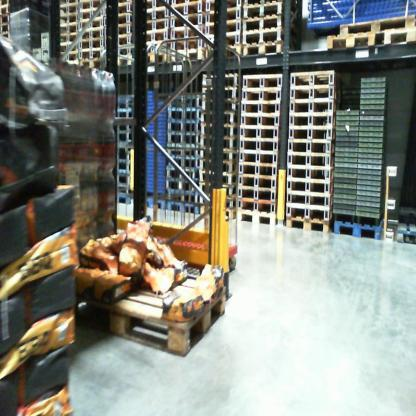pallets: (79, 280, 227, 358), (324, 13, 415, 54), (112, 188, 209, 214), (327, 214, 392, 247), (225, 38, 292, 67), (284, 209, 331, 234), (236, 207, 277, 226)
